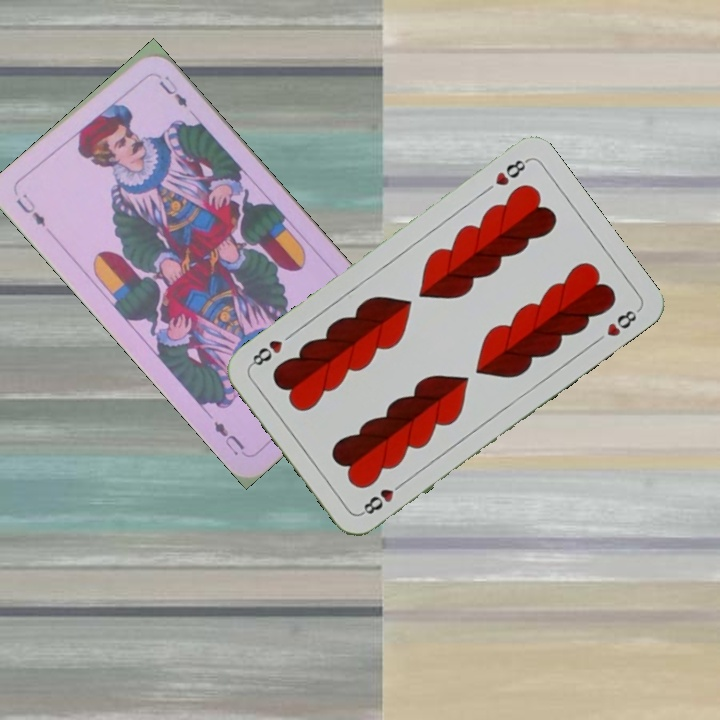EU: (12, 189, 49, 230)
H8: (357, 476, 408, 517), (491, 155, 531, 189)
